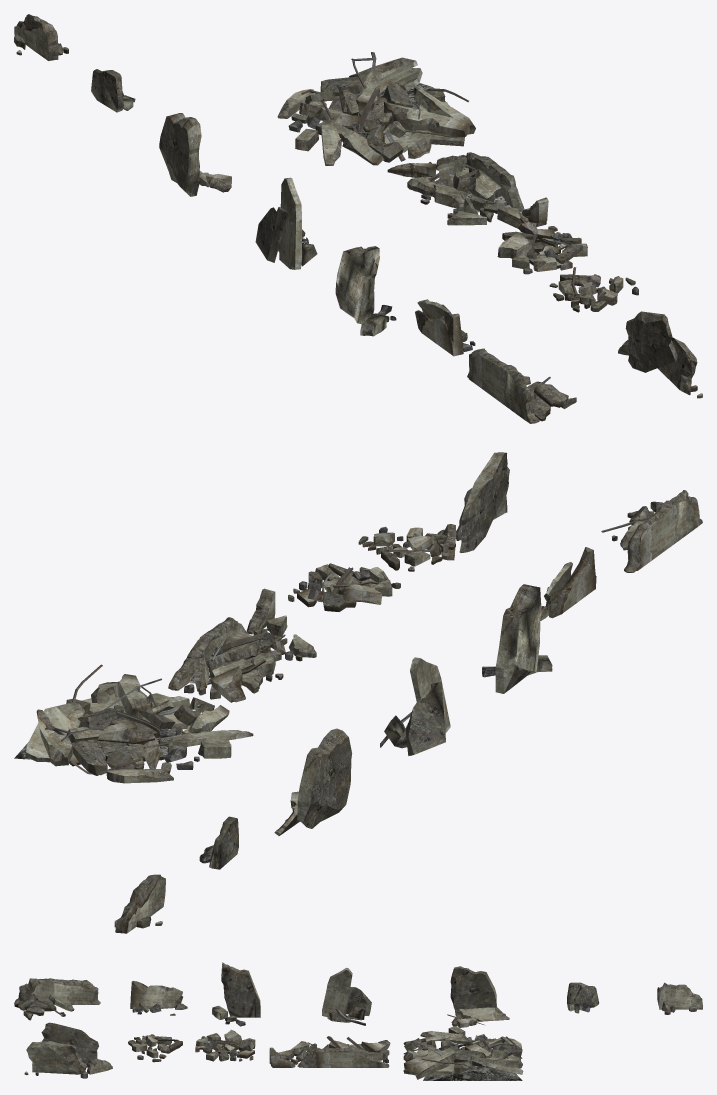
The model's file is debris.glb.
3 views of the same model, one above another, from view 1: azimuth 30°, elevation 25°; view 2: azimuth 150°, elevation 25°; view 3: azimuth 270°, elevation 25° (orthographic). The views are drawn at different scales.
Visible parts, largest first — view 1: concrete_debris256Pile001a_reference.smd, concrete_debris256Barricade001a_reference.smd, barricade_short04a_reference.smd, barricade_tall04a_reference.smd, barricade_tall01a_reference.smd, barricade_tall03a_reference.smd, concrete_debris128Pile001a_reference.smd, barricade_tall02a_reference.smd, concrete_debris128Pile001b_reference.smd, barricade_short03a_reference.smd, barricade_short02a_reference.smd, barricade_short01a_reference.smd; view 2: concrete_debris256Pile001a_reference.smd, concrete_debris256Barricade001a_reference.smd, barricade_tall03a_reference.smd, barricade_tall01a_reference.smd, barricade_short04a_reference.smd, barricade_tall02a_reference.smd, barricade_tall04a_reference.smd, concrete_debris128Pile001a_reference.smd, concrete_debris128Pile001b_reference.smd, barricade_short03a_reference.smd, barricade_short02a_reference.smd, barricade_short01a_reference.smd; view 3: concrete_debris256Pile001a_reference.smd, barricade_tall04a_reference.smd, concrete_debris256Barricade001a_reference.smd, barricade_tall03a_reference.smd, barricade_short04a_reference.smd, barricade_tall01a_reference.smd, barricade_tall02a_reference.smd, barricade_short03a_reference.smd, concrete_debris128Pile001a_reference.smd, barricade_short02a_reference.smd, concrete_debris256Pile001a_reference.smd.001, concrete_debris128Pile001b_reference.smd (+1 smaller).
Boxes of the visible parts, x1=… form: concrete_debris256Pile001a_reference.smd: x1=277, y1=52, x2=475, y2=165; concrete_debris256Barricade001a_reference.smd: x1=387, y1=152, x2=548, y2=228; barricade_short04a_reference.smd: x1=467, y1=348, x2=576, y2=423; barricade_tall04a_reference.smd: x1=618, y1=311, x2=702, y2=398; barricade_tall01a_reference.smd: x1=335, y1=246, x2=396, y2=336; barricade_tall03a_reference.smd: x1=159, y1=113, x2=231, y2=196; concrete_debris128Pile001a_reference.smd: x1=497, y1=222, x2=587, y2=274; barricade_tall02a_reference.smd: x1=255, y1=177, x2=317, y2=269; concrete_debris128Pile001b_reference.smd: x1=549, y1=267, x2=638, y2=312; barricade_short03a_reference.smd: x1=415, y1=299, x2=475, y2=356; barricade_short02a_reference.smd: x1=14, y1=14, x2=68, y2=60; barricade_short01a_reference.smd: x1=91, y1=69, x2=135, y2=112; concrete_debris256Pile001a_reference.smd: x1=25, y1=664, x2=253, y2=783; concrete_debris256Barricade001a_reference.smd: x1=168, y1=588, x2=316, y2=702; barricade_tall03a_reference.smd: x1=274, y1=728, x2=352, y2=835; barricade_tall01a_reference.smd: x1=482, y1=584, x2=552, y2=693; barricade_short04a_reference.smd: x1=601, y1=490, x2=702, y2=572; barricade_tall02a_reference.smd: x1=380, y1=657, x2=450, y2=755; barricade_tall04a_reference.smd: x1=437, y1=452, x2=509, y2=560; concrete_debris128Pile001a_reference.smd: x1=288, y1=563, x2=400, y2=611; concrete_debris128Pile001b_reference.smd: x1=358, y1=526, x2=455, y2=571; barricade_short03a_reference.smd: x1=540, y1=547, x2=596, y2=620; barricade_short02a_reference.smd: x1=114, y1=874, x2=165, y2=933; barricade_short01a_reference.smd: x1=199, y1=816, x2=238, y2=869; concrete_debris256Pile001a_reference.smd: x1=403, y1=1026, x2=523, y2=1079; barricade_tall04a_reference.smd: x1=24, y1=1022, x2=112, y2=1078; concrete_debris256Barricade001a_reference.smd: x1=269, y1=1036, x2=390, y2=1067; barricade_tall03a_reference.smd: x1=447, y1=966, x2=509, y2=1027; barricade_short04a_reference.smd: x1=14, y1=978, x2=100, y2=1020; barricade_tall01a_reference.smd: x1=212, y1=962, x2=260, y2=1026; barricade_tall02a_reference.smd: x1=322, y1=967, x2=371, y2=1025; barricade_short03a_reference.smd: x1=130, y1=981, x2=187, y2=1015; concrete_debris128Pile001a_reference.smd: x1=195, y1=1029, x2=255, y2=1061; barricade_short02a_reference.smd: x1=657, y1=982, x2=702, y2=1014; concrete_debris256Pile001a_reference.smd.001: x1=423, y1=1048, x2=522, y2=1080; concrete_debris128Pile001b_reference.smd: x1=128, y1=1034, x2=182, y2=1062.
Bounding box in the file's own units: 8.14 × 2.35 × 27.7.
2 materials, 2 textured.
